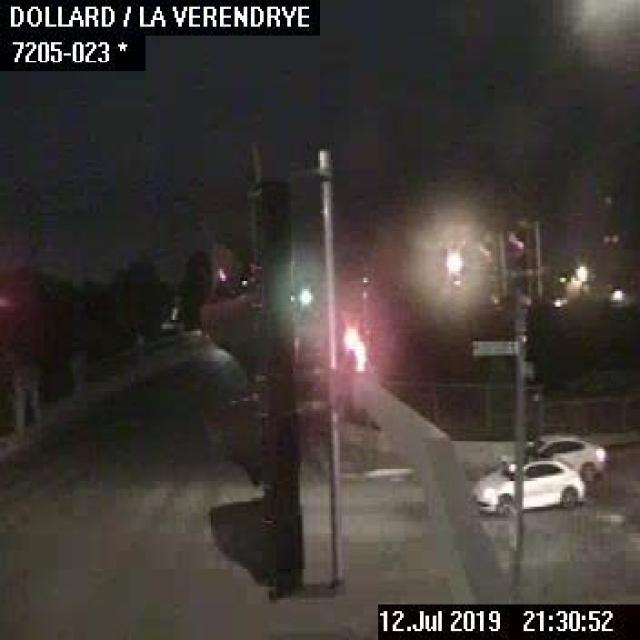vehicle: (498, 426, 610, 486), (467, 457, 587, 511)
